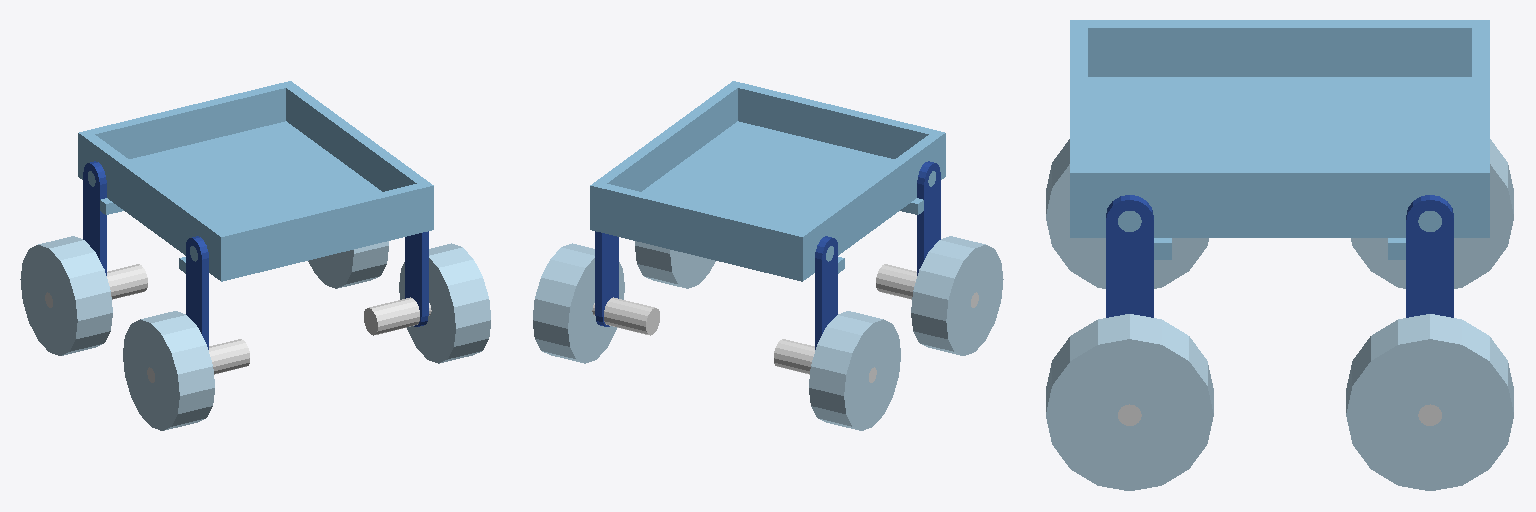
The robot description file, URDF, robot "root":
<!--URDF generated by ONSHAPE BY PTC INC, 1.213-->
<robot name="root">
    <link name="body">
        <inertial>
            <mass value="2.57431" />
            <origin xyz="1.6961e-17 2.22829e-17 -0.0123125" rpy="0 -0 0" />
            <inertia ixx="0.0338994" ixy="0" ixz="0" iyy="0.0264062" iyz="0" izz="0.0588794" />
        </inertial>
        <visual>
            <origin xyz="0 0 0" rpy="0 -0 0" />
            <geometry>
                <mesh filename="package://inchworming_rover/meshes/body.stl" scale="1 1 1" />
            </geometry>
            <material name="0.615686_0.811765_0.929412_0.000000_0.000000">
                <texture />
                <color rgba="0.615686 0.811765 0.929412 1" />
            </material>
        </visual>
    </link>
    <link name="front_right_leg">
        <inertial>
            <mass value="0.178965" />
            <origin xyz="0.005 0 -0.075" rpy="0 -0 0" />
            <inertia ixx="0.000469913" ixy="0" ixz="0" iyy="0.000446836" iyz="0" izz="2.60602e-05" />
        </inertial>
        <visual>
            <origin xyz="-0.15 0.125 0.01" rpy="0 -0 0" />
            <geometry>
                <mesh filename="package://inchworming_rover/meshes/leg.stl" scale="1 1 1" />
            </geometry>
            <material name="0.231373_0.380392_0.705882_0.000000_0.000000">
                <texture />
                <color rgba="0.231373 0.380392 0.705882 1" />
            </material>
        </visual>
    </link>
    <link name="front_left_leg">
        <inertial>
            <mass value="0.178965" />
            <origin xyz="-0.005 0 -0.075" rpy="0 -0 0" />
            <inertia ixx="0.000469913" ixy="0" ixz="0" iyy="0.000446836" iyz="0" izz="2.60602e-05" />
        </inertial>
        <visual>
            <origin xyz="-0.16 0.125 0.01" rpy="0 -0 0" />
            <geometry>
                <mesh filename="package://inchworming_rover/meshes/leg.stl" scale="1 1 1" />
            </geometry>
            <material name="0.231373_0.380392_0.705882_0.000000_0.000000">
                <texture />
                <color rgba="0.231373 0.380392 0.705882 1" />
            </material>
        </visual>
    </link>
    <link name="rear_right_leg">
        <inertial>
            <mass value="0.178965" />
            <origin xyz="0.005 0 -0.075" rpy="0 -0 0" />
            <inertia ixx="0.000469913" ixy="0" ixz="0" iyy="0.000446836" iyz="0" izz="2.60602e-05" />
        </inertial>
        <visual>
            <origin xyz="-0.15 0.125 0.01" rpy="0 -0 0" />
            <geometry>
                <mesh filename="package://inchworming_rover/meshes/leg.stl" scale="1 1 1" />
            </geometry>
            <material name="0.231373_0.380392_0.705882_0.000000_0.000000">
                <texture />
                <color rgba="0.231373 0.380392 0.705882 1" />
            </material>
        </visual>
    </link>
    <link name="rear_left_leg">
        <inertial>
            <mass value="0.178965" />
            <origin xyz="-0.005 0 -0.075" rpy="0 -0 0" />
            <inertia ixx="0.000469913" ixy="0" ixz="0" iyy="0.000446836" iyz="0" izz="2.60602e-05" />
        </inertial>
        <visual>
            <origin xyz="-0.16 0.125 0.01" rpy="0 -0 0" />
            <geometry>
                <mesh filename="package://inchworming_rover/meshes/leg.stl" scale="1 1 1" />
            </geometry>
            <material name="0.231373_0.380392_0.705882_0.000000_0.000000">
                <texture />
                <color rgba="0.231373 0.380392 0.705882 1" />
            </material>
        </visual>
    </link>
    <link name="rear_right_motor">
        <inertial>
            <mass value="0.215238" />
            <origin xyz="-0.012069 0 -2.77556e-17" rpy="0 -0 0" />
            <inertia ixx="2.68352e-05" ixy="0" ixz="0" iyy="0.000266082" iyz="0" izz="0.000266082" />
        </inertial>
        <visual>
            <origin xyz="-0.15 0.125 0.16" rpy="0 -0 0" />
            <geometry>
                <mesh filename="package://inchworming_rover/meshes/motor.stl" scale="1 1 1" />
            </geometry>
            <material name="0.917647_0.917647_0.917647_0.000000_0.000000">
                <texture />
                <color rgba="0.917647 0.917647 0.917647 1" />
            </material>
        </visual>
    </link>
    <link name="front_left_motor">
        <inertial>
            <mass value="0.215238" />
            <origin xyz="-0.012069 0 -2.77556e-17" rpy="0 -0 0" />
            <inertia ixx="2.68352e-05" ixy="0" ixz="0" iyy="0.000266082" iyz="0" izz="0.000266082" />
        </inertial>
        <visual>
            <origin xyz="-0.15 0.125 0.16" rpy="0 -0 0" />
            <geometry>
                <mesh filename="package://inchworming_rover/meshes/motor.stl" scale="1 1 1" />
            </geometry>
            <material name="0.917647_0.917647_0.917647_0.000000_0.000000">
                <texture />
                <color rgba="0.917647 0.917647 0.917647 1" />
            </material>
        </visual>
    </link>
    <link name="front_right_motor">
        <inertial>
            <mass value="0.215238" />
            <origin xyz="-0.012069 0 -2.77556e-17" rpy="0 -0 0" />
            <inertia ixx="2.68352e-05" ixy="0" ixz="0" iyy="0.000266082" iyz="0" izz="0.000266082" />
        </inertial>
        <visual>
            <origin xyz="-0.15 0.125 0.16" rpy="0 -0 0" />
            <geometry>
                <mesh filename="package://inchworming_rover/meshes/motor.stl" scale="1 1 1" />
            </geometry>
            <material name="0.917647_0.917647_0.917647_0.000000_0.000000">
                <texture />
                <color rgba="0.917647 0.917647 0.917647 1" />
            </material>
        </visual>
    </link>
    <link name="rear_left_motor">
        <inertial>
            <mass value="0.215238" />
            <origin xyz="-0.012069 0 -2.77556e-17" rpy="0 -0 0" />
            <inertia ixx="2.68352e-05" ixy="0" ixz="0" iyy="0.000266082" iyz="0" izz="0.000266082" />
        </inertial>
        <visual>
            <origin xyz="-0.15 0.125 0.16" rpy="0 -0 0" />
            <geometry>
                <mesh filename="package://inchworming_rover/meshes/motor.stl" scale="1 1 1" />
            </geometry>
            <material name="0.917647_0.917647_0.917647_0.000000_0.000000">
                <texture />
                <color rgba="0.917647 0.917647 0.917647 1" />
            </material>
        </visual>
    </link>
    <link name="front_left_wheel">
        <inertial>
            <mass value="0.942478" />
            <origin xyz="-0.025 0 -2.77556e-17" rpy="0 -0 0" />
            <inertia ixx="0.00235619" ixy="0" ixz="0" iyy="0.00137445" iyz="0" izz="0.00137445" />
        </inertial>
        <visual>
            <origin xyz="-0.22 0.125 0.16" rpy="0 -0 0" />
            <geometry>
                <mesh filename="package://inchworming_rover/meshes/wheel.stl" scale="1 1 1" />
            </geometry>
            <material name="0.768627_0.886275_0.952941_0.000000_0.000000">
                <texture />
                <color rgba="0.768627 0.886275 0.952941 1" />
            </material>
        </visual>
    </link>
    <link name="rear_left_wheel">
        <inertial>
            <mass value="0.942478" />
            <origin xyz="-0.025 0 -2.77556e-17" rpy="0 -0 0" />
            <inertia ixx="0.00235619" ixy="0" ixz="0" iyy="0.00137445" iyz="0" izz="0.00137445" />
        </inertial>
        <visual>
            <origin xyz="-0.22 0.125 0.16" rpy="0 -0 0" />
            <geometry>
                <mesh filename="package://inchworming_rover/meshes/wheel.stl" scale="1 1 1" />
            </geometry>
            <material name="0.768627_0.886275_0.952941_0.000000_0.000000">
                <texture />
                <color rgba="0.768627 0.886275 0.952941 1" />
            </material>
        </visual>
    </link>
    <link name="front_right_wheel">
        <inertial>
            <mass value="0.942478" />
            <origin xyz="0.025 0 -2.77556e-17" rpy="0 -0 0" />
            <inertia ixx="0.00235619" ixy="0" ixz="0" iyy="0.00137445" iyz="0" izz="0.00137445" />
        </inertial>
        <visual>
            <origin xyz="-0.17 0.125 0.16" rpy="0 -0 0" />
            <geometry>
                <mesh filename="package://inchworming_rover/meshes/wheel.stl" scale="1 1 1" />
            </geometry>
            <material name="0.768627_0.886275_0.952941_0.000000_0.000000">
                <texture />
                <color rgba="0.768627 0.886275 0.952941 1" />
            </material>
        </visual>
    </link>
    <link name="rear_right_wheel">
        <inertial>
            <mass value="0.942478" />
            <origin xyz="0.025 0 -2.77556e-17" rpy="0 -0 0" />
            <inertia ixx="0.00235619" ixy="0" ixz="0" iyy="0.00137445" iyz="0" izz="0.00137445" />
        </inertial>
        <visual>
            <origin xyz="-0.17 0.125 0.16" rpy="0 -0 0" />
            <geometry>
                <mesh filename="package://inchworming_rover/meshes/wheel.stl" scale="1 1 1" />
            </geometry>
            <material name="0.768627_0.886275_0.952941_0.000000_0.000000">
                <texture />
                <color rgba="0.768627 0.886275 0.952941 1" />
            </material>
        </visual>
    </link>
    <joint name="front_left_leg_joint" type="revolute">
        <origin xyz="0.16 -0.125 -0.01" rpy="0 0 0" />
        <axis xyz="1 0 0" />
        <parent link="body" />
        <child link="front_left_leg" />
        <limit lower="-1.57" upper="0" effort="10.0" velocity="10.0"/>
    </joint>
    <joint name="front_left_motor_fasten_0" type="fixed">
        <origin xyz="-0.01 0 -0.15" rpy="0 0 0" />
        <axis xyz="1 0 0" />
        <parent link="front_left_leg" />
        <child link="front_left_motor" />
    </joint>
    <joint name="front_left_wheel_joint" type="continuous">
        <origin xyz="0.07 0 0" rpy="0 0 0" />
        <axis xyz="1 0 0" />
        <parent link="front_left_motor" />
        <child link="front_left_wheel" />
    </joint>
    <joint name="front_right_leg_joint" type="revolute">
        <origin xyz="-0.16 -0.125 -0.01" rpy="0 0 0" />
        <axis xyz="-1 0 0" />
        <parent link="body" />
        <child link="front_right_leg" />
        <limit lower="0" upper="1.57" effort="10.0" velocity="10.0"/>
    </joint>
    <joint name="front_right_motor_fasten" type="fixed">
        <origin xyz="0.01 0 -0.15" rpy="0 0 3.14159" />
        <axis xyz="1 0 0" />
        <parent link="front_right_leg" />
        <child link="front_right_motor" />
    </joint>
    <joint name="front_right_wheel_joint" type="continuous">
        <origin xyz="0.07 0 0" rpy="0 0 3.14159" />
        <axis xyz="-1 0 0" />
        <parent link="front_right_motor" />
        <child link="front_right_wheel" />
    </joint>
    <joint name="rear_left_leg_joint" type="revolute">
        <origin xyz="0.16 0.125 -0.01" rpy="0 0 0" />
        <axis xyz="1 0 0" />
        <parent link="body" />
        <child link="rear_left_leg" />
        <limit lower="0" upper="1.57" effort="10.0" velocity="10.0"/>
    </joint>
    <joint name="rear_left_motor_fasten" type="fixed">
        <origin xyz="-0.01 0 -0.15" rpy="0 -0 0" />
        <axis xyz="-1 0 0" />
        <parent link="rear_left_leg" />
        <child link="rear_left_motor" />
    </joint>
    <joint name="rear_left_wheel_joint" type="continuous">
        <origin xyz="0.07 0 0" rpy="0 0 0" />
        <axis xyz="1 0 0" />
        <parent link="rear_left_motor" />
        <child link="rear_left_wheel" />
    </joint>
    <joint name="rear_right_leg_joint" type="revolute">
        <origin xyz="-0.16 0.125 -0.01" rpy="0 0 0" />
        <axis xyz="-1 0 0" />
        <parent link="body" />
        <child link="rear_right_leg" />
        <limit lower="-1.57" upper="0" effort="10.0" velocity="10.0"/>
    </joint>
    <joint name="rear_right_motor_fasten" type="fixed">
        <origin xyz="0.01 0 -0.15" rpy="0 0 3.14159" />
        <axis xyz="1 0 0" />
        <parent link="rear_right_leg" />
        <child link="rear_right_motor" />
    </joint>
    <joint name="rear_right_wheel_joint" type="continuous">
        <origin xyz="0.07 0 0" rpy="0 0 -3.14159" />
        <axis xyz="-1 0 0" />
        <parent link="rear_right_motor" />
        <child link="rear_right_wheel" />
    </joint>
</robot>

--- What the picture shows (computed from the rendered views, not written in the file) ---
3 views of the same robot in one strip: view 1: azimuth 30°, elevation 25°; view 2: azimuth 150°, elevation 25°; view 3: azimuth 270°, elevation 25° (orthographic).
Model root with 13 links and 12 joints (4 revolute, 4 continuous, 4 fixed), rooted at body, posed all joints at 0.
Visible links, largest first — view 1: body, front_right_wheel, rear_right_wheel, front_left_wheel, rear_left_wheel, front_right_leg, rear_right_leg, front_left_leg, front_left_motor, rear_right_motor, front_right_motor; view 2: body, rear_right_wheel, front_right_wheel, rear_left_wheel, front_left_wheel, rear_right_leg, front_right_leg, rear_left_leg, rear_left_motor, rear_right_motor, front_right_motor; view 3: body, front_left_wheel, rear_left_wheel, front_right_wheel, rear_right_wheel, front_left_leg, rear_left_leg.
Boxes of the visible links, x1=… form: body: x1=78, y1=81, x2=433, y2=281; front_right_wheel: x1=123, y1=311, x2=214, y2=430; rear_right_wheel: x1=20, y1=236, x2=112, y2=355; front_left_wheel: x1=399, y1=243, x2=490, y2=363; rear_left_wheel: x1=308, y1=241, x2=388, y2=288; front_right_leg: x1=186, y1=236, x2=208, y2=349; rear_right_leg: x1=83, y1=161, x2=106, y2=275; front_left_leg: x1=405, y1=231, x2=428, y2=326; front_left_motor: x1=364, y1=297, x2=431, y2=335; rear_right_motor: x1=45, y1=264, x2=147, y2=307; front_right_motor: x1=147, y1=339, x2=249, y2=382; body: x1=590, y1=81, x2=945, y2=281; rear_right_wheel: x1=809, y1=311, x2=900, y2=430; front_right_wheel: x1=911, y1=236, x2=1003, y2=355; rear_left_wheel: x1=533, y1=243, x2=624, y2=363; front_left_wheel: x1=635, y1=241, x2=715, y2=288; rear_right_leg: x1=815, y1=236, x2=837, y2=349; front_right_leg: x1=917, y1=161, x2=940, y2=275; rear_left_leg: x1=595, y1=231, x2=618, y2=326; rear_left_motor: x1=592, y1=297, x2=659, y2=335; rear_right_motor: x1=774, y1=339, x2=876, y2=382; front_right_motor: x1=876, y1=264, x2=978, y2=307; body: x1=1070, y1=20, x2=1489, y2=259; front_left_wheel: x1=1046, y1=314, x2=1213, y2=490; rear_left_wheel: x1=1346, y1=314, x2=1513, y2=490; front_right_wheel: x1=1046, y1=139, x2=1208, y2=288; rear_right_wheel: x1=1351, y1=139, x2=1513, y2=288; front_left_leg: x1=1106, y1=195, x2=1153, y2=317; rear_left_leg: x1=1406, y1=195, x2=1453, y2=317.
Size in the robot's own frame: 0.44 by 0.39 by 0.26 metres.
13 mesh visuals loaded from 4 distinct referenced files (4 ASCII STL).
